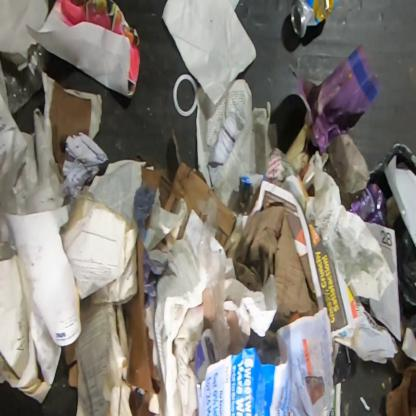cardboard: (139, 127, 237, 248), (124, 183, 178, 399), (286, 117, 370, 211), (50, 81, 91, 183), (384, 349, 416, 416), (350, 183, 388, 227), (62, 343, 77, 366), (67, 362, 78, 388)
metal: (291, 0, 338, 38)
rigid_plastic: (0, 42, 49, 114), (396, 229, 416, 308)
soft_plastic: (198, 241, 232, 361), (173, 73, 198, 117)
